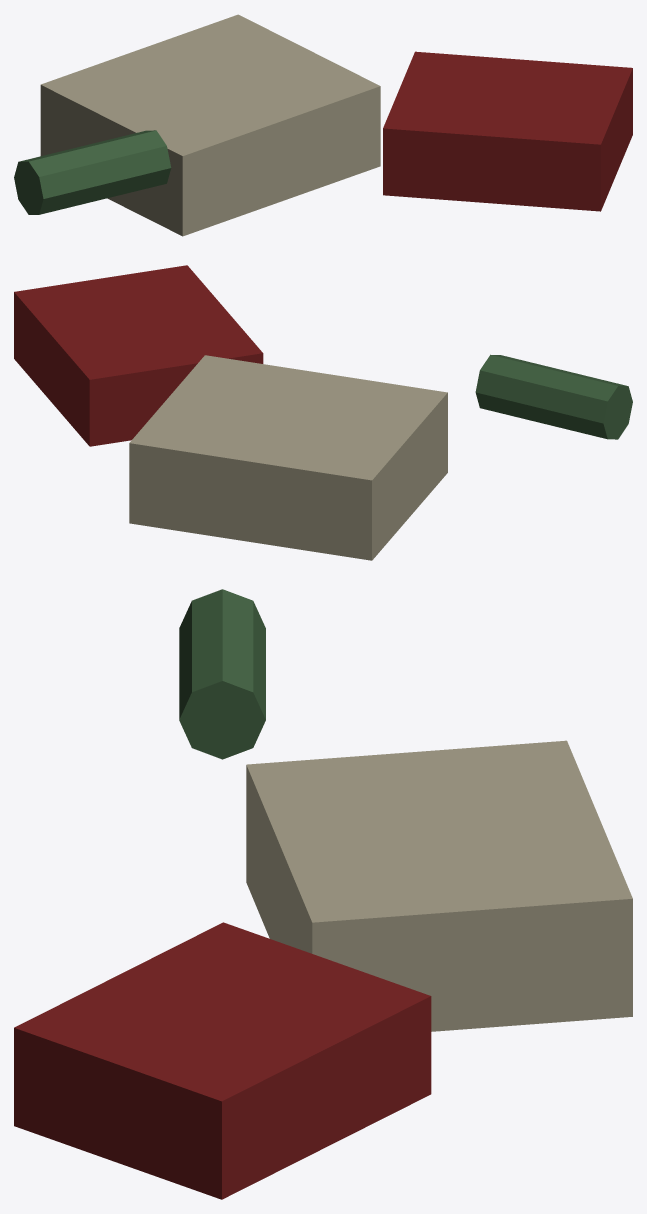
The model's file is clutter_bags.glb.
The picture shows the model from 3 angles, top to bottom: view 1: azimuth 30°, elevation 25°; view 2: azimuth 150°, elevation 25°; view 3: azimuth 270°, elevation 25°; orthographic projection. The views are drawn at different scales.
Visible parts, largest first — view 1: clutter_bags; view 2: clutter_bags; view 3: clutter_bags.
Part boxes in pixels (<box>): clutter_bags: <box>14,14,632,236</box>; clutter_bags: <box>14,265,632,560</box>; clutter_bags: <box>14,589,632,1199</box>.
Bounding box in the file's own units: 0.9453 × 0.18 × 0.5703.
